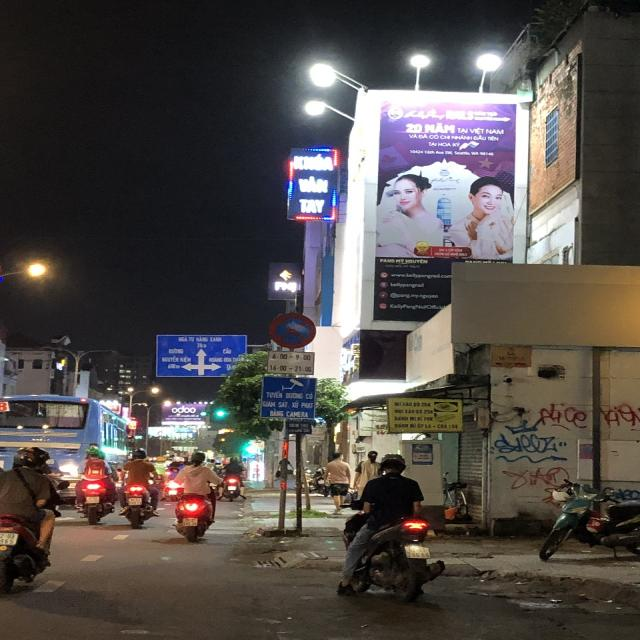Bien bao cam dung xe va do xe: (266, 310, 321, 354)
